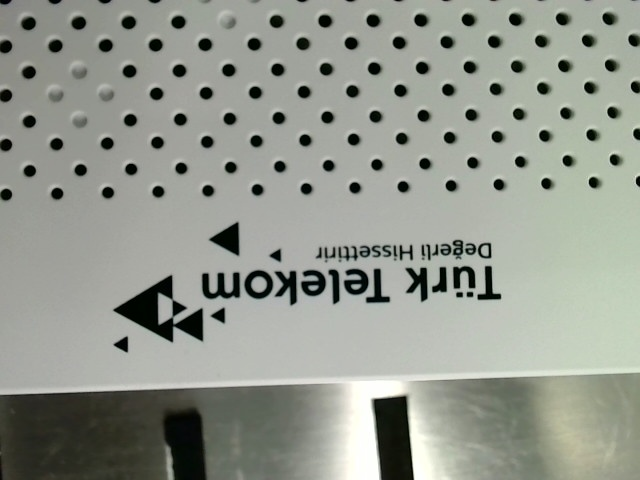AQ_TURKTelekom: (96, 214, 507, 356)
